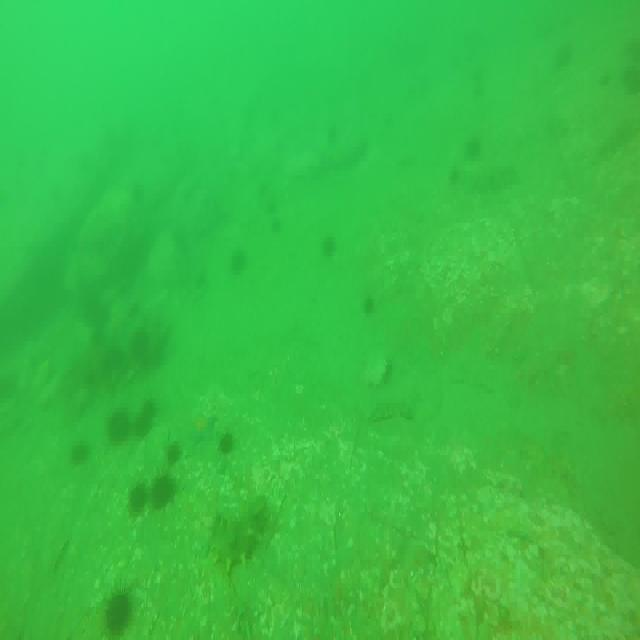echinus: (103, 588, 132, 640), (148, 472, 176, 508), (126, 482, 152, 514), (132, 406, 156, 440), (106, 408, 130, 439), (163, 438, 185, 469), (217, 426, 237, 456), (230, 246, 250, 273), (69, 440, 86, 469), (463, 133, 481, 160), (320, 234, 337, 258), (363, 290, 374, 314)
holothurian: (210, 519, 256, 570)
starfish: (189, 413, 216, 444)
